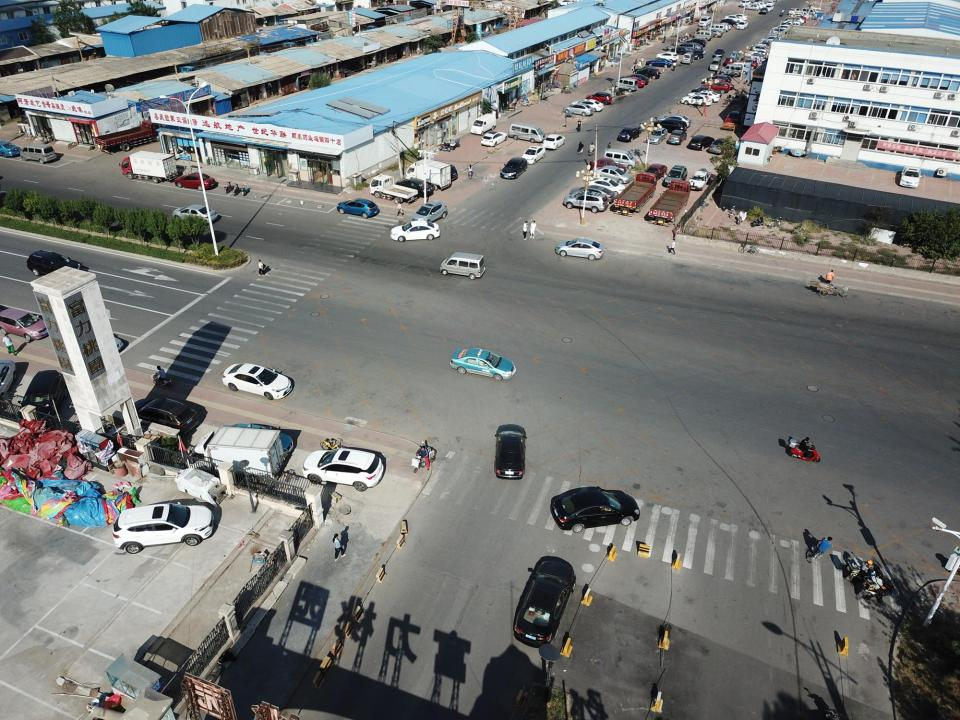car: (513, 559, 578, 646), (110, 505, 214, 554), (550, 488, 643, 532), (304, 450, 382, 488), (221, 362, 293, 400), (138, 397, 198, 434), (451, 348, 515, 382), (26, 370, 64, 418), (495, 424, 525, 480), (1, 307, 47, 341), (28, 250, 80, 277), (170, 204, 220, 222), (565, 194, 608, 212), (175, 172, 216, 190), (0, 360, 19, 398), (498, 156, 528, 180), (398, 178, 434, 196), (571, 185, 613, 200), (662, 164, 688, 186), (595, 166, 630, 182), (899, 166, 921, 188), (592, 157, 626, 171), (652, 118, 688, 130), (682, 94, 712, 108), (689, 134, 715, 150), (590, 178, 624, 190), (710, 137, 734, 154), (690, 170, 710, 190), (524, 146, 545, 165), (544, 132, 566, 150), (481, 131, 507, 146), (618, 126, 642, 142), (572, 98, 603, 110), (702, 80, 733, 92), (563, 103, 593, 115), (647, 127, 666, 145), (662, 113, 693, 124), (666, 129, 686, 146), (646, 163, 667, 178), (688, 91, 719, 101), (584, 91, 612, 102), (636, 67, 661, 79), (644, 56, 673, 66), (691, 86, 719, 96), (109, 333, 124, 351), (724, 13, 748, 21), (712, 23, 733, 32), (686, 38, 709, 46), (706, 74, 732, 81), (732, 62, 750, 72), (656, 52, 678, 60), (675, 44, 697, 52), (625, 75, 644, 84), (749, 49, 769, 57), (682, 52, 695, 64), (709, 57, 720, 71), (695, 30, 712, 39), (706, 27, 722, 36), (698, 16, 711, 26), (753, 44, 771, 51), (720, 17, 738, 24), (713, 47, 725, 57), (729, 50, 738, 60), (737, 21, 748, 29)
truck: (96, 121, 164, 150), (614, 173, 658, 214), (650, 180, 691, 224), (120, 150, 175, 182), (410, 159, 452, 190), (369, 175, 416, 202)
van: (434, 251, 485, 278), (390, 220, 440, 243), (556, 238, 605, 260), (332, 197, 380, 219), (508, 122, 544, 142), (604, 148, 636, 167), (22, 144, 55, 162), (471, 113, 498, 132), (615, 78, 638, 90), (721, 64, 743, 75)
